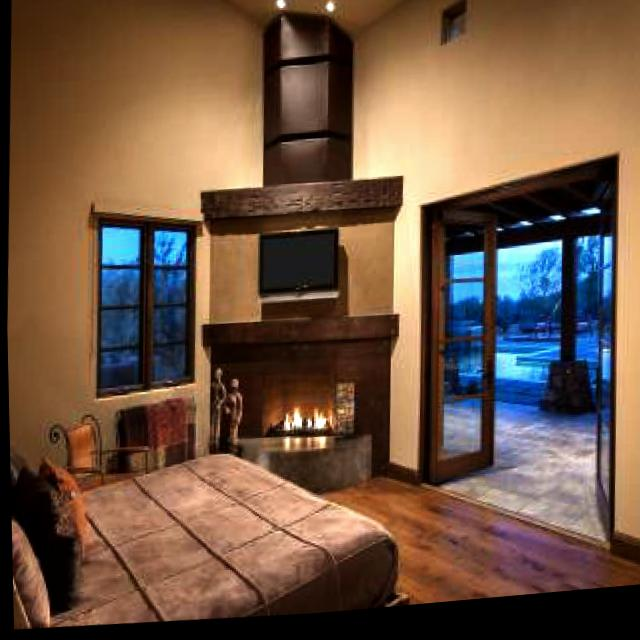helmet: (279, 407, 344, 448)
